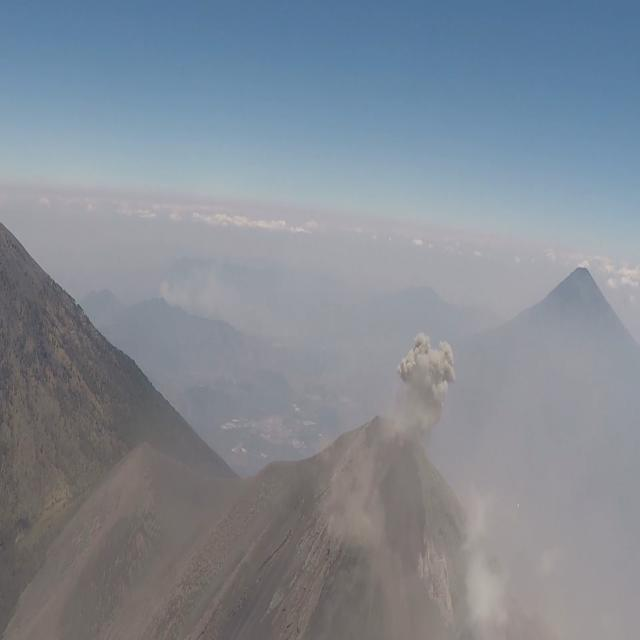Plume: (398, 330, 455, 440)
Summit: (248, 409, 498, 589)
